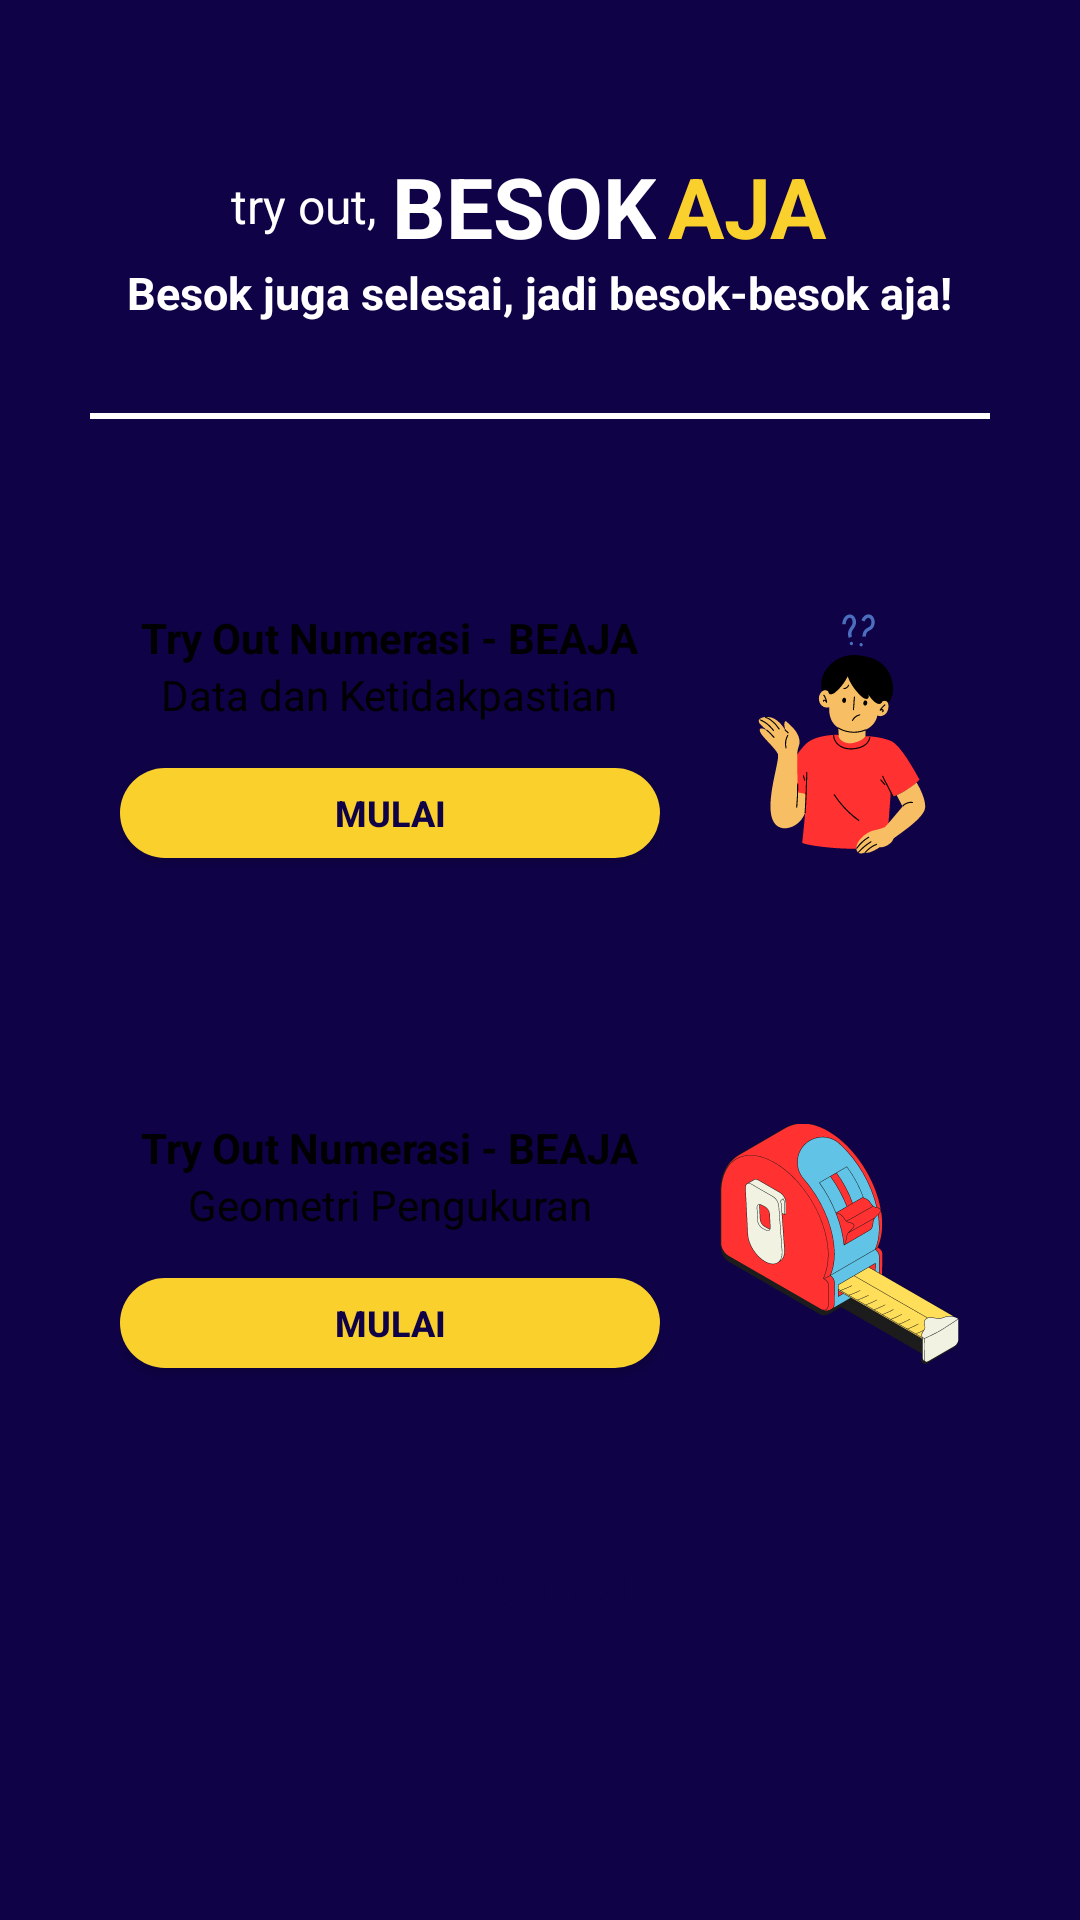

Icons on this 1080x1920 Android screen, each with the point to tap as (x,y):
data tidak pasti: (842,734)
